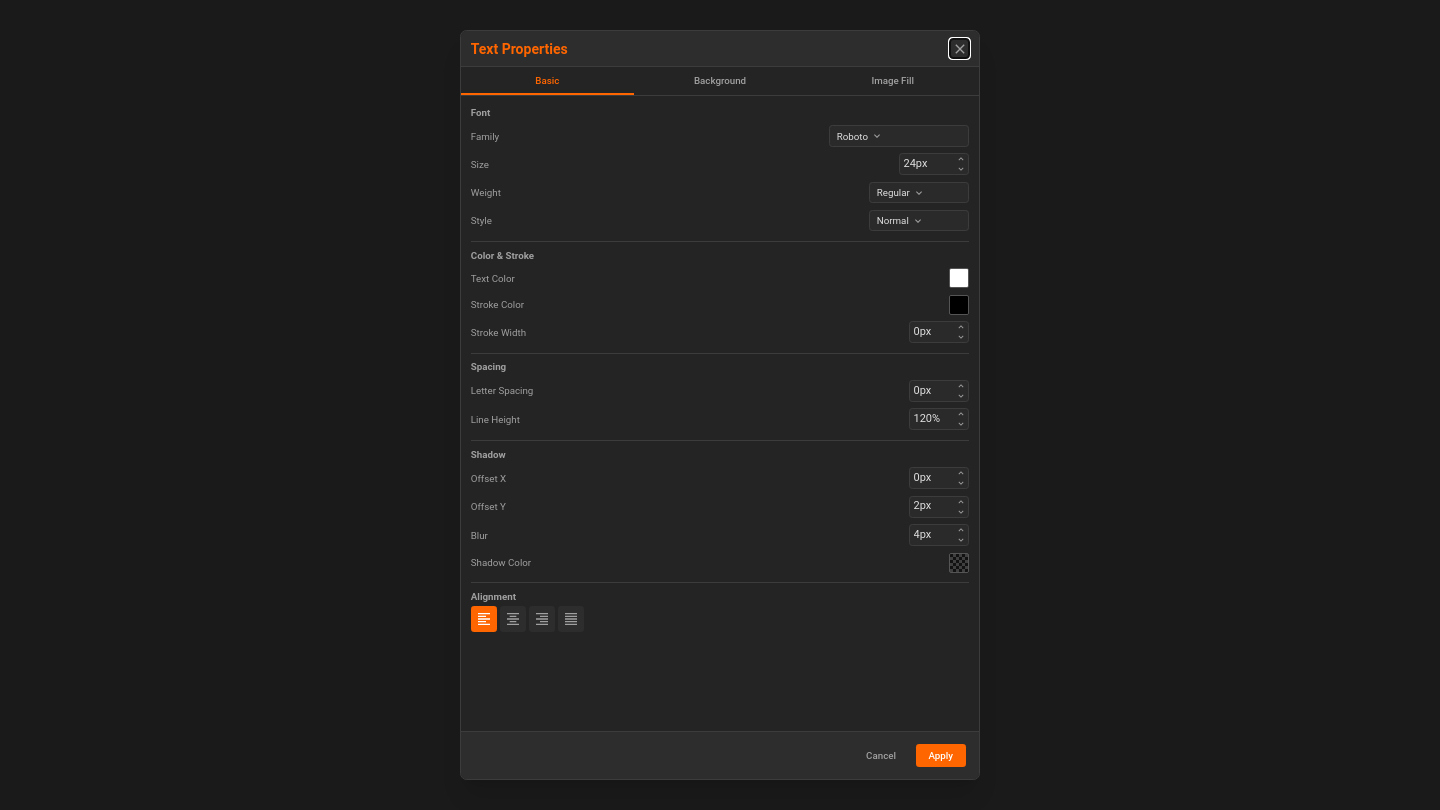
Test: Phase 20B — TextPropertiesWindow › switches between tabs
The width and height of the screenshot is (1440, 810).
Expected: the panel with test id "text-props-basic" is shown, [461, 96, 979, 731]
// Switch to gradient
Click the tab with test id "text-props-tab-background" at (720, 81), box [634, 67, 806, 95]
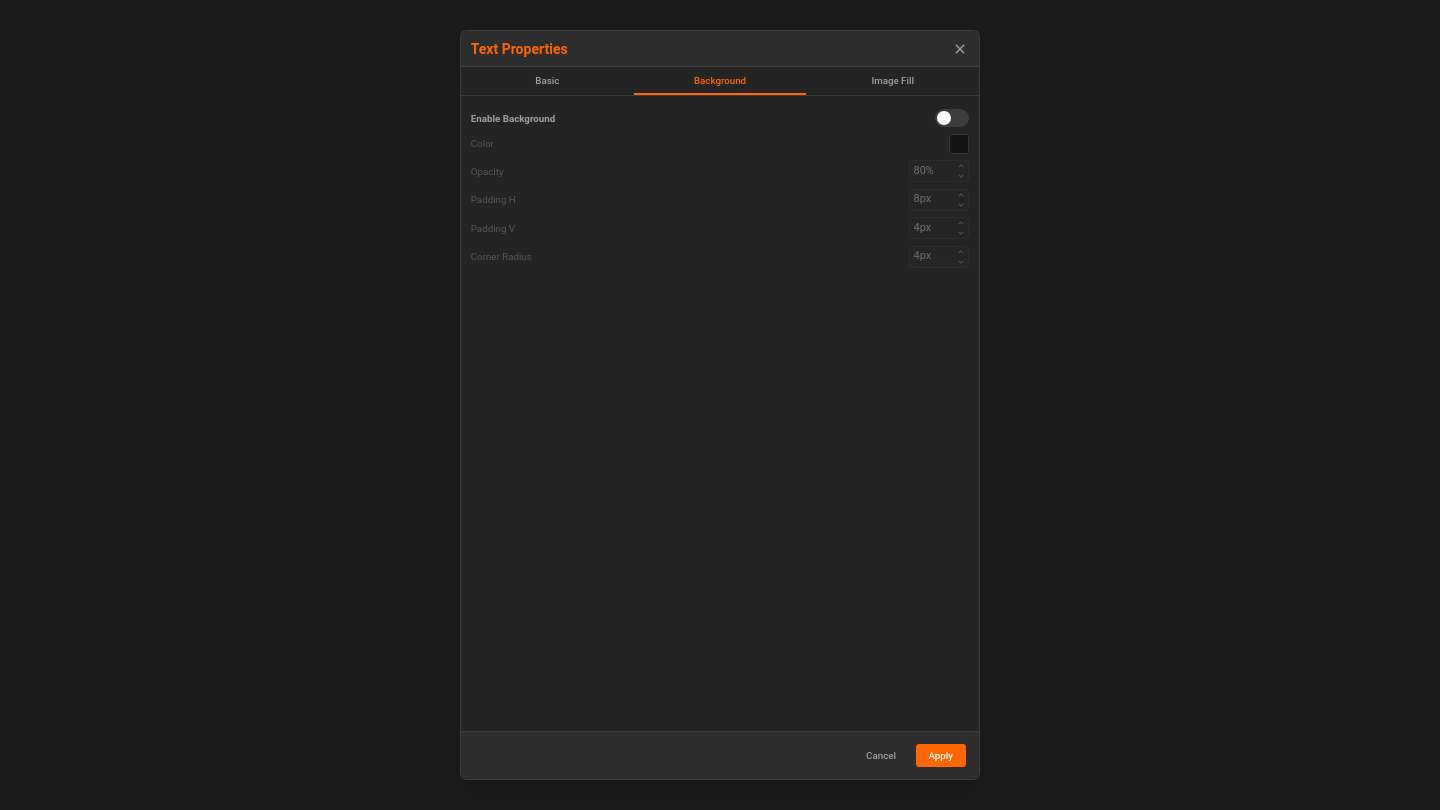
Now the panel with test id "text-props-background" is shown, box [471, 109, 969, 268]
Now the switch with test id "bg-enable-toggle" is shown, box [935, 109, 969, 127]
// Switch to image fill
Click the tab with test id "text-props-tab-image-fill" at (893, 81), box [806, 67, 979, 95]
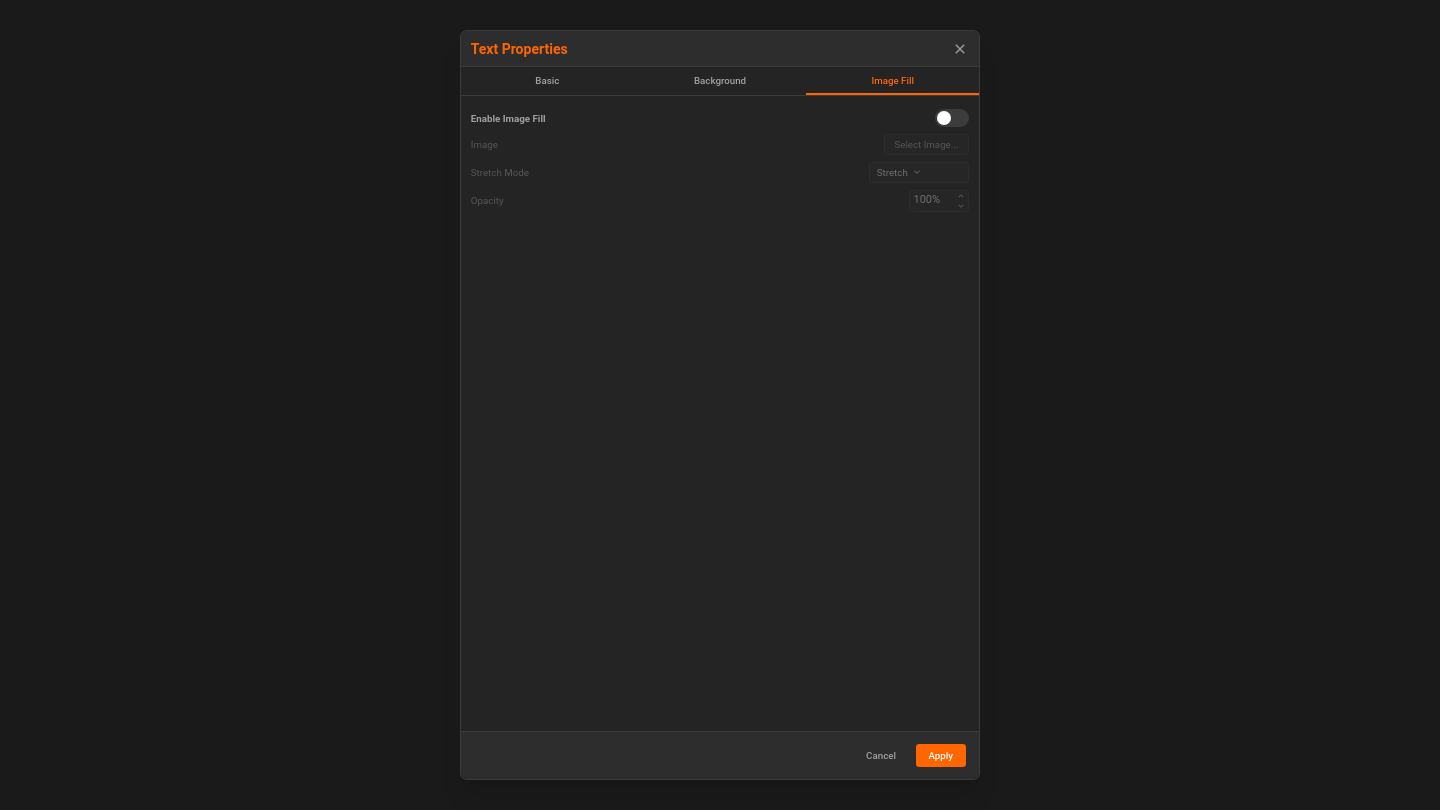
Expected: the switch with test id "img-fill-enable-toggle" is shown, [935, 109, 969, 127]
Now the panel with test id "text-props-image-fill" is shown, box [471, 109, 969, 212]
